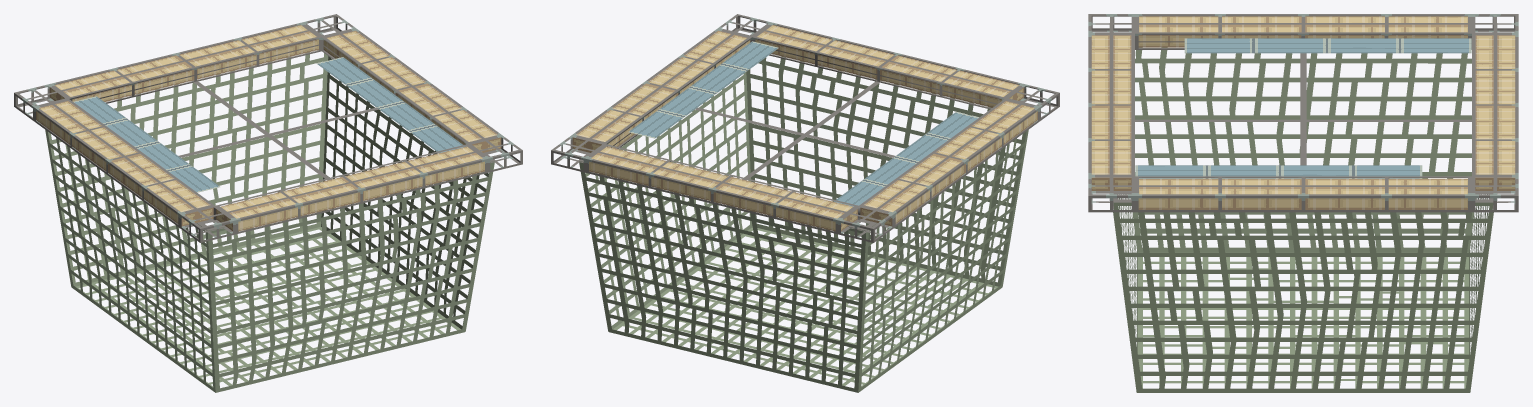
File: 0577_Netting_Cage.glb
3 renders of one model, left to right at view 1: azimuth 30°, elevation 25°; view 2: azimuth 150°, elevation 25°; view 3: azimuth 270°, elevation 25°, orthographic. The views are drawn at different scales.
Parts seen in each view (by area): view 1: part_0; view 2: part_0; view 3: part_0.
Boxes of the visible parts, x1,y1,x2,y2 form: part_0: [14, 14, 522, 392]; part_0: [551, 14, 1059, 392]; part_0: [1088, 14, 1518, 392].
Size of the model in its own units: 24 by 13.37 by 24.
Materials: 1 (1 with a texture image).
